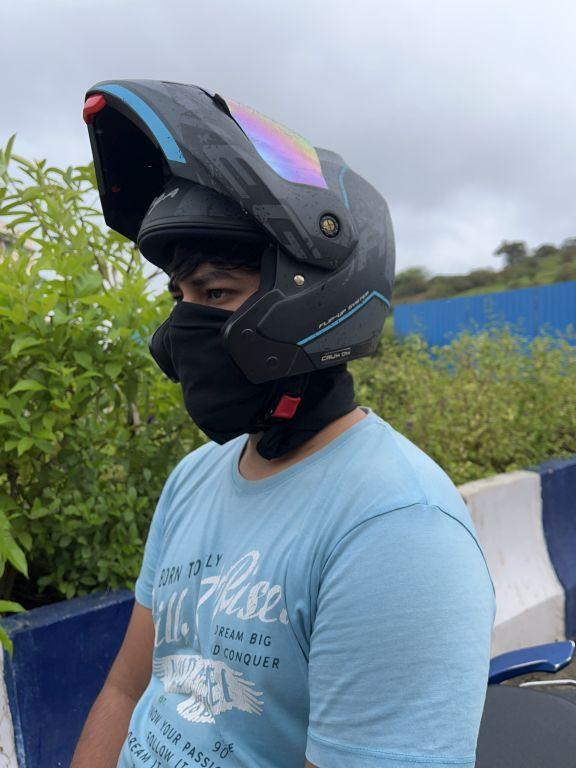helmet: (59, 69, 409, 419)
